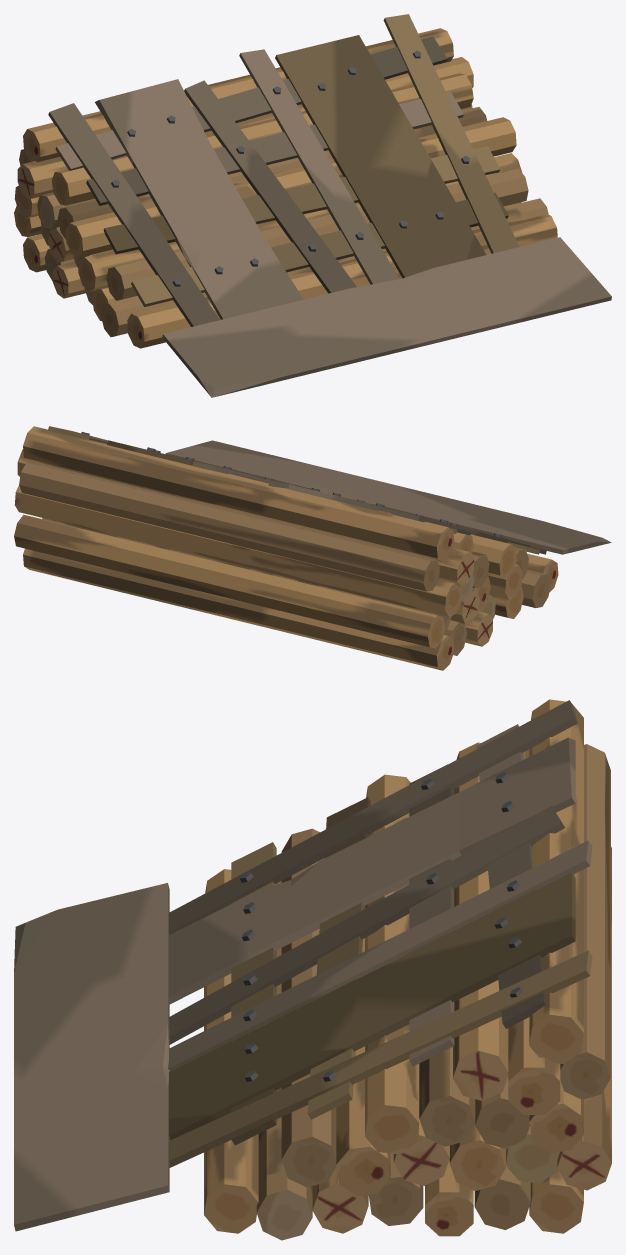
Rendered from SM_Prop_Ramp_Logs_01.fbx.
3 views of the same model, one above another, from view 1: azimuth 30°, elevation 25°; view 2: azimuth 150°, elevation 25°; view 3: azimuth 270°, elevation 25° (orthographic). The views are drawn at different scales.
Visible parts, largest first — view 1: SM_Prop_Ramp_Logs_01; view 2: SM_Prop_Ramp_Logs_01; view 3: SM_Prop_Ramp_Logs_01.
Part boxes in pixels (x1=…): SM_Prop_Ramp_Logs_01: x1=14, y1=14, x2=611, y2=397; SM_Prop_Ramp_Logs_01: x1=14, y1=426, x2=611, y2=670; SM_Prop_Ramp_Logs_01: x1=14, y1=699, x2=611, y2=1240.
Size of the model in its own units: 1009 by 349 by 761.
